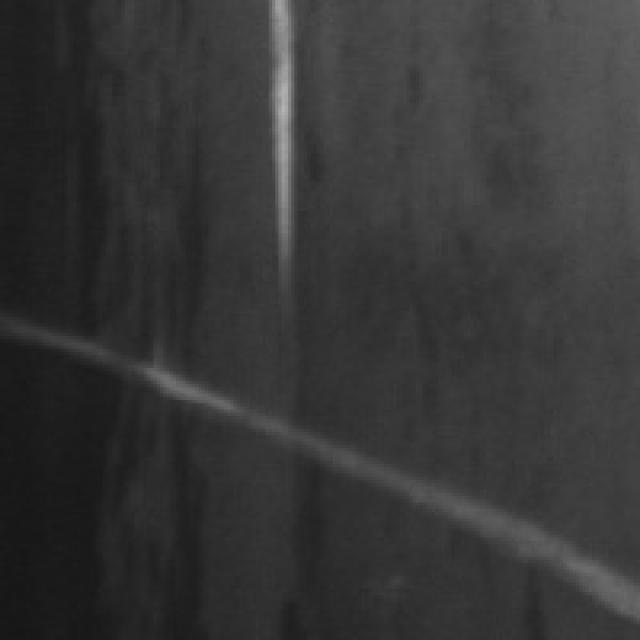inclusion: (4, 0, 218, 630)
scratches: (16, 316, 637, 618), (259, 0, 314, 304)
